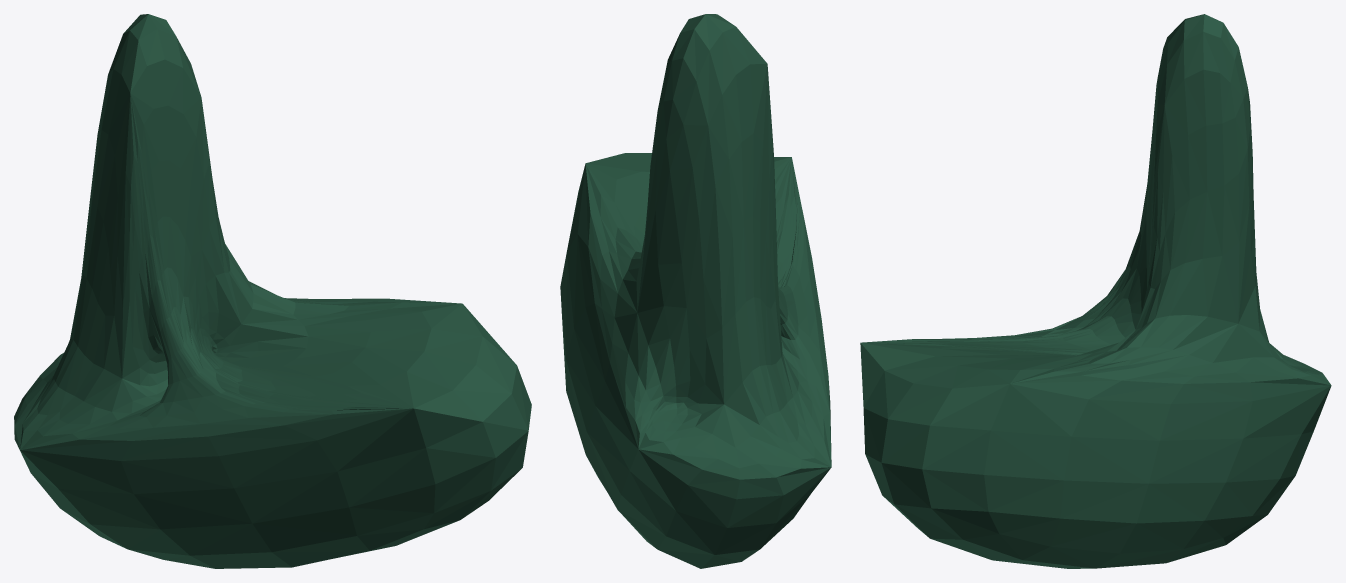
The picture shows the model from 3 angles, left to right: view 1: azimuth 30°, elevation 25°; view 2: azimuth 150°, elevation 25°; view 3: azimuth 270°, elevation 25°; orthographic projection. The views are drawn at different scales.
Parts seen in each view (by area): view 1: 169_Cube.703; view 2: 169_Cube.703; view 3: 169_Cube.703.
Part boxes in pixels (<box>): 169_Cube.703: <box>14,14,531,568</box>; 169_Cube.703: <box>560,14,831,568</box>; 169_Cube.703: <box>860,14,1331,568</box>.
Bounding box in the file's own units: 8.77 × 12.16 × 9.91.
